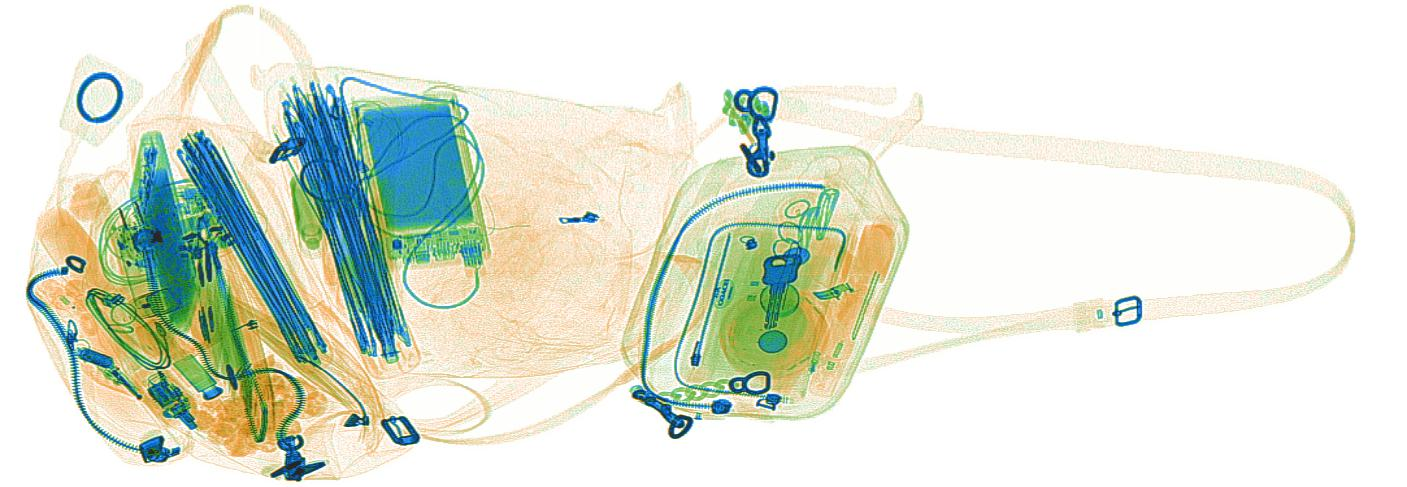battery: (76, 346, 114, 370)
plasticBottleWithaNozzle: (805, 248, 875, 401)
